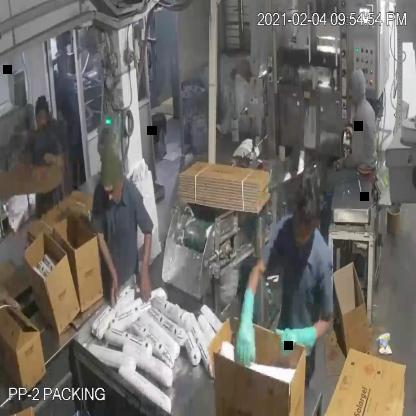glove: (232, 279, 258, 383), (275, 314, 320, 365)
no_glove: (89, 226, 121, 304), (136, 218, 154, 309)
